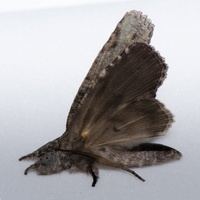insect: (19, 10, 180, 185)
